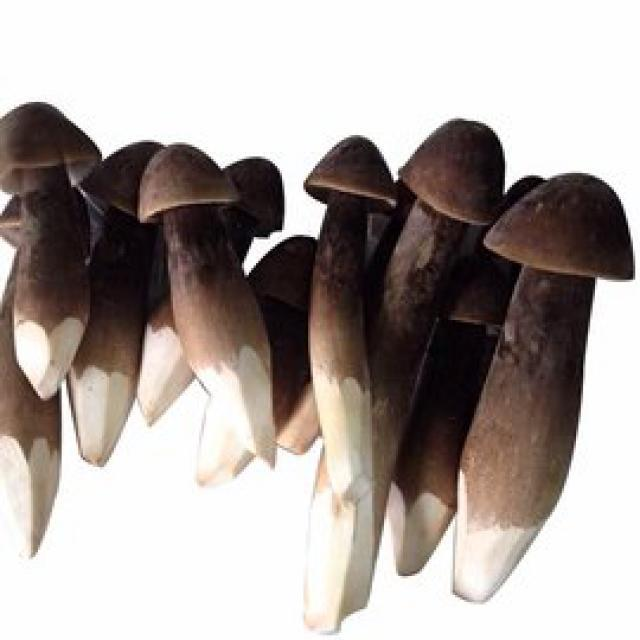Collybia albuminosa: (476, 171, 631, 603), (137, 141, 296, 463), (306, 134, 391, 629), (0, 100, 107, 394), (70, 139, 164, 465), (406, 117, 495, 410)
